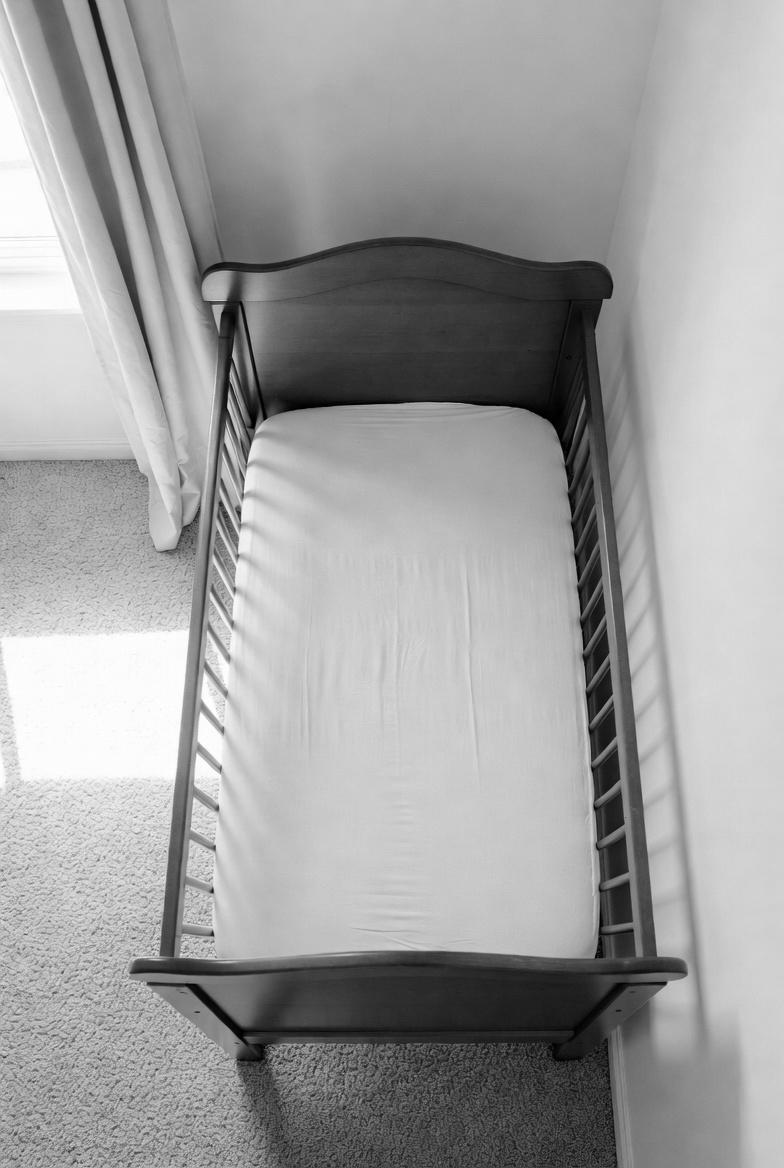crib: (131, 239, 686, 1058)
